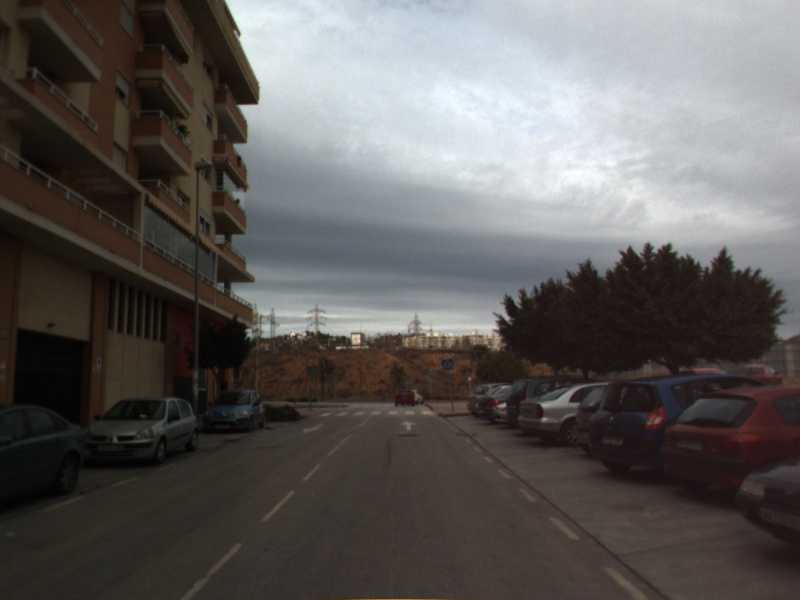STRAIGHT: (399, 419, 419, 433)
